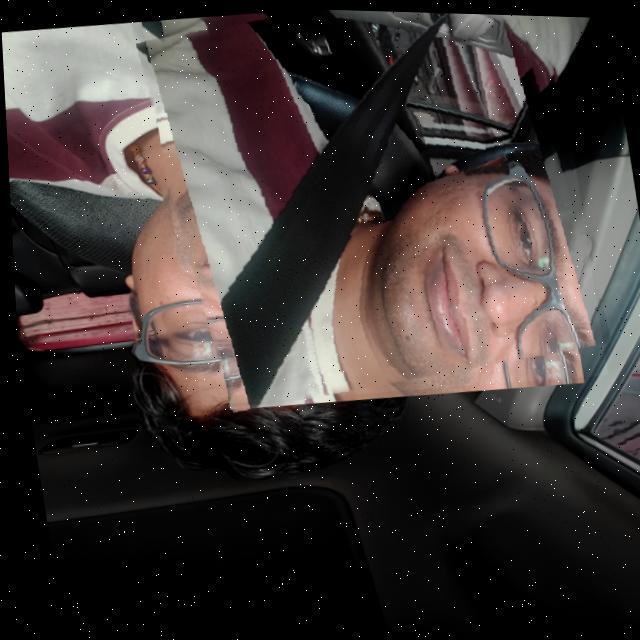seatbelt: (140, 3, 605, 414)
